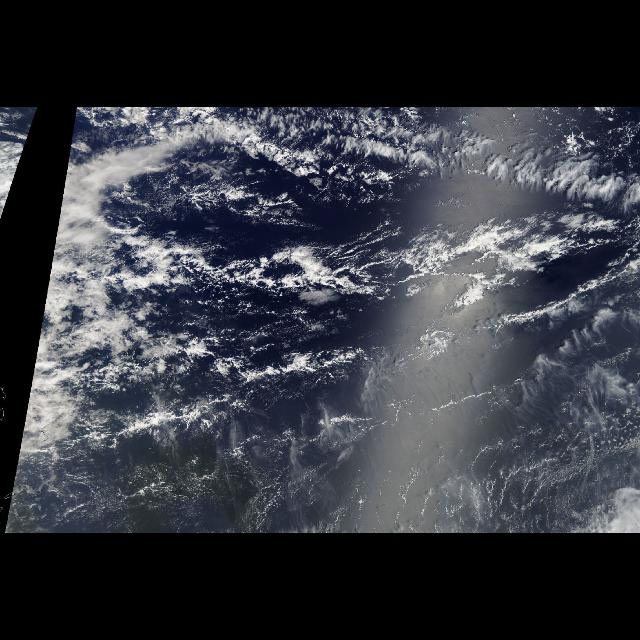Fish: (143, 108, 637, 328)
Sugar: (180, 376, 634, 490)
